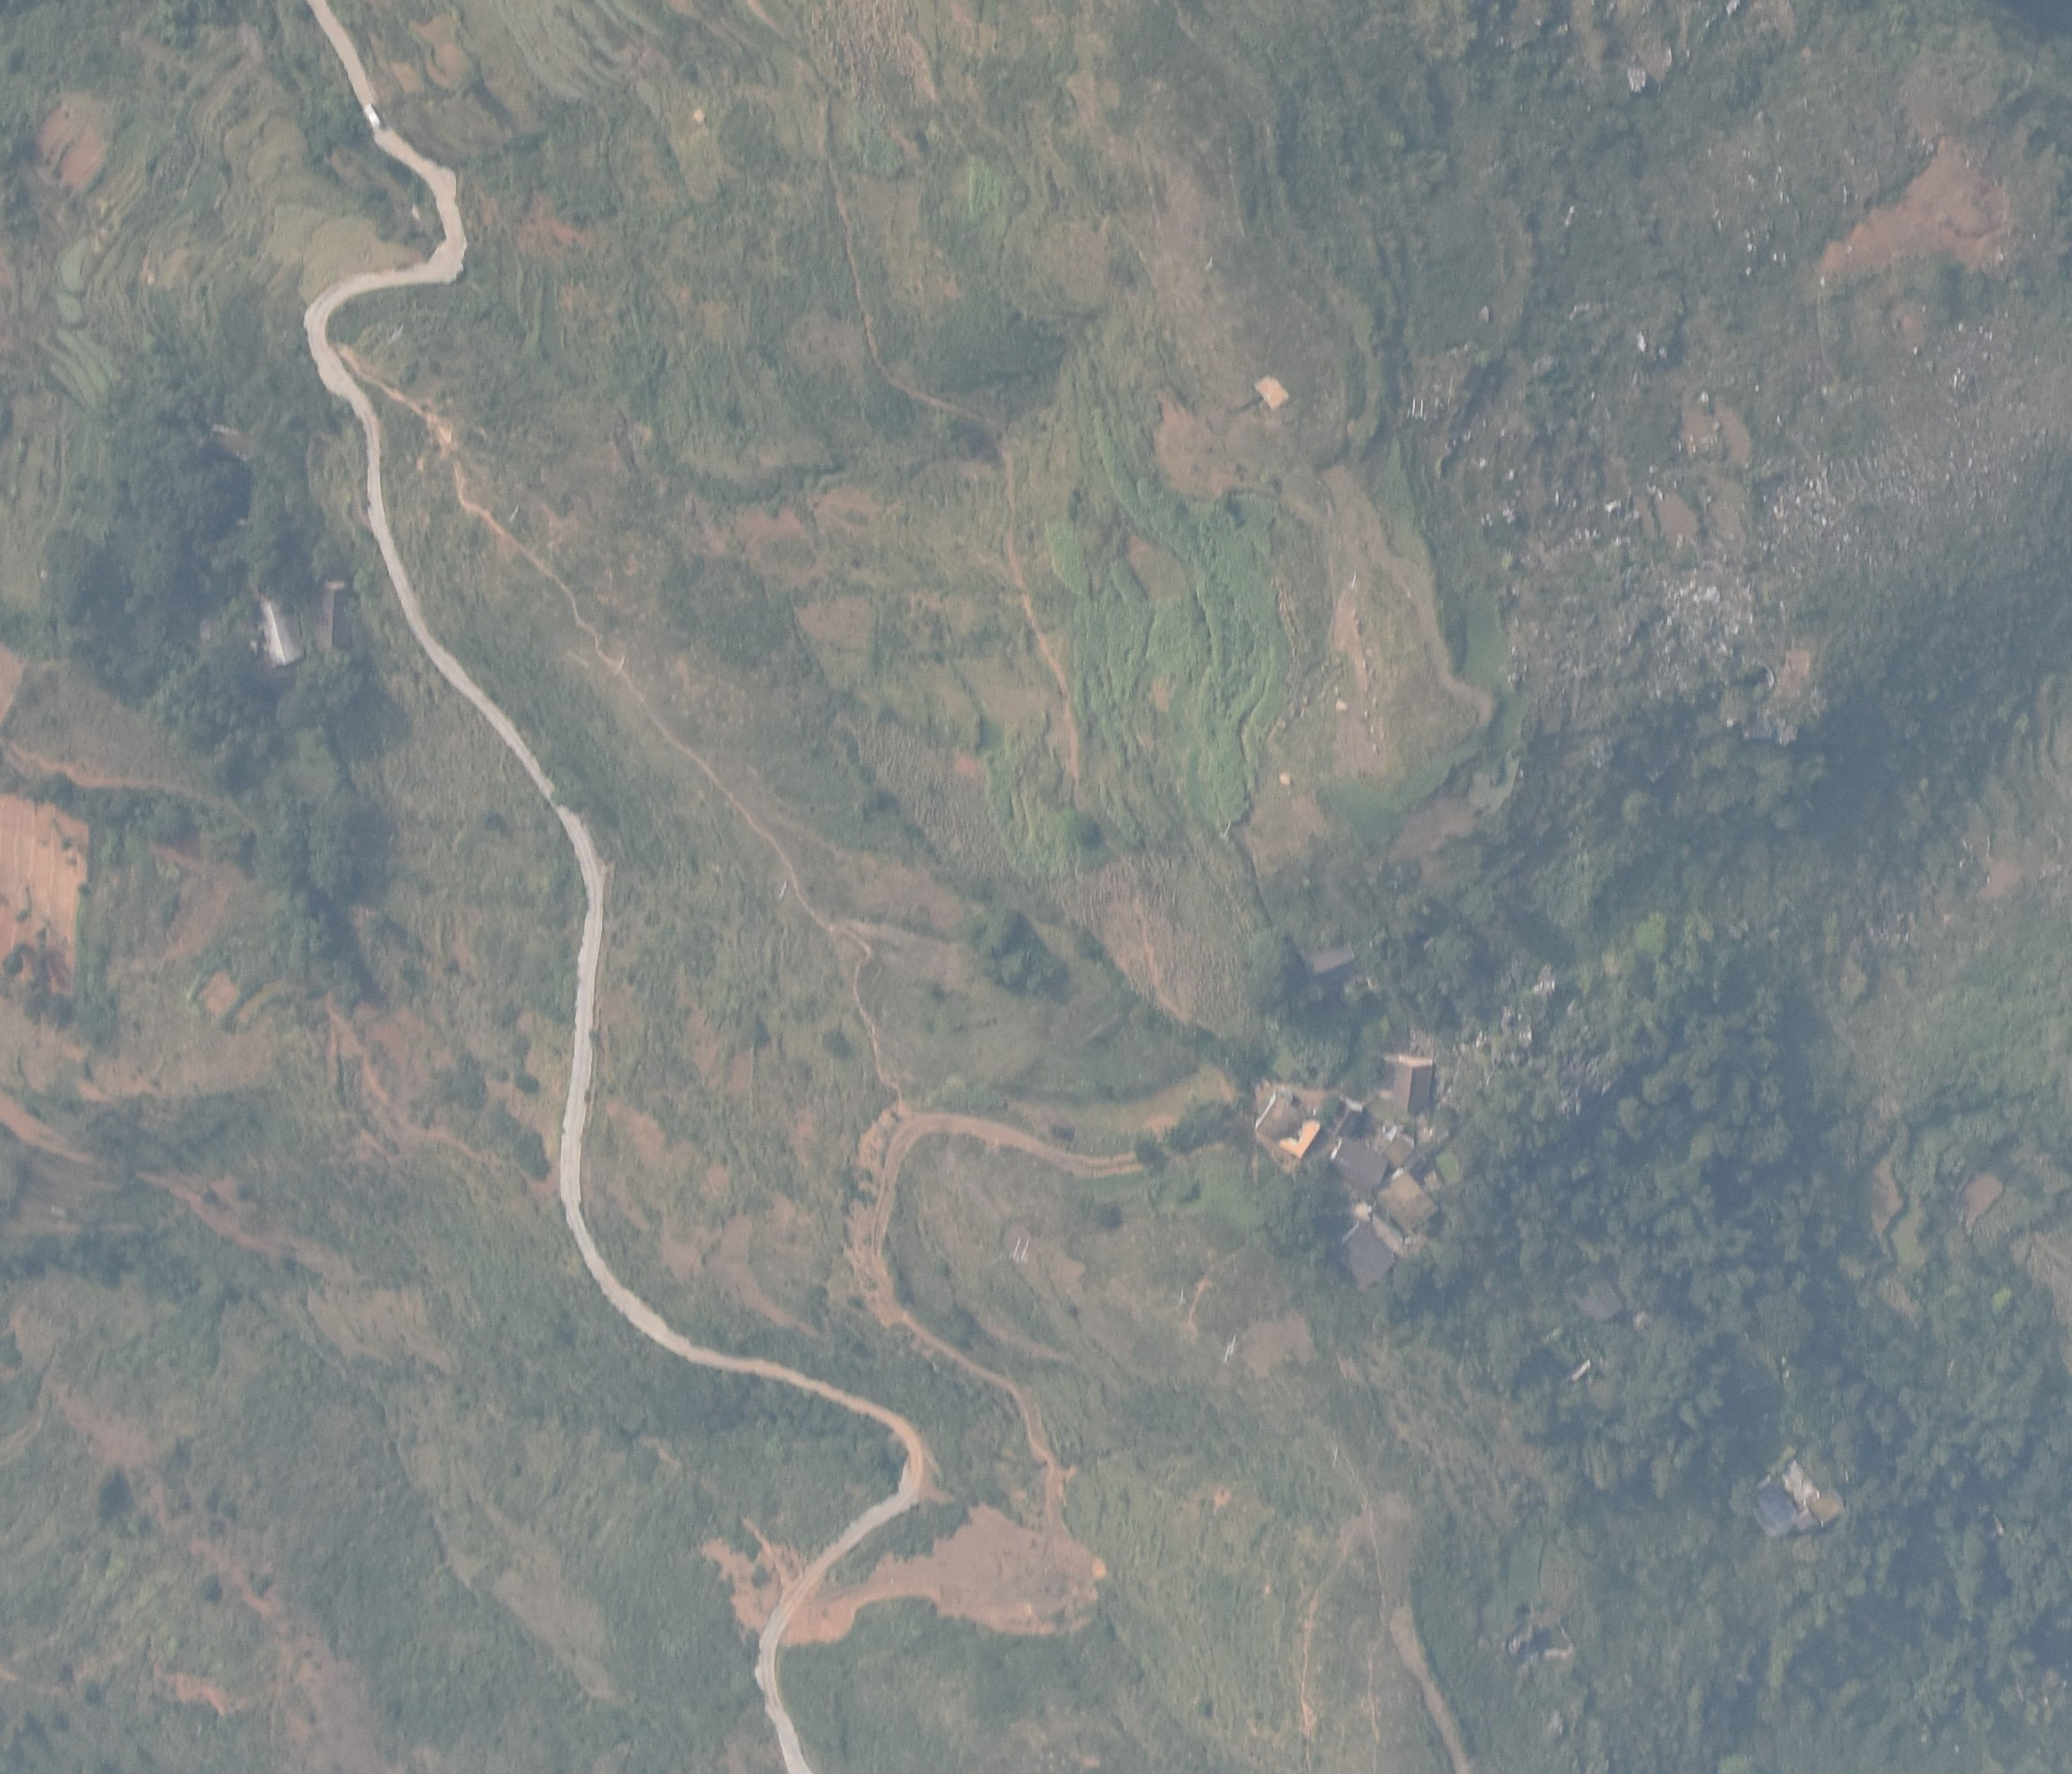building: (1375, 1172, 1439, 1237), (1337, 1221, 1391, 1288), (1330, 1137, 1388, 1193), (1569, 1264, 1623, 1323), (260, 597, 304, 667), (1391, 1058, 1432, 1116), (320, 583, 354, 649), (1330, 1098, 1361, 1139), (1379, 1135, 1412, 1170)
vehicle: (362, 102, 382, 130)
